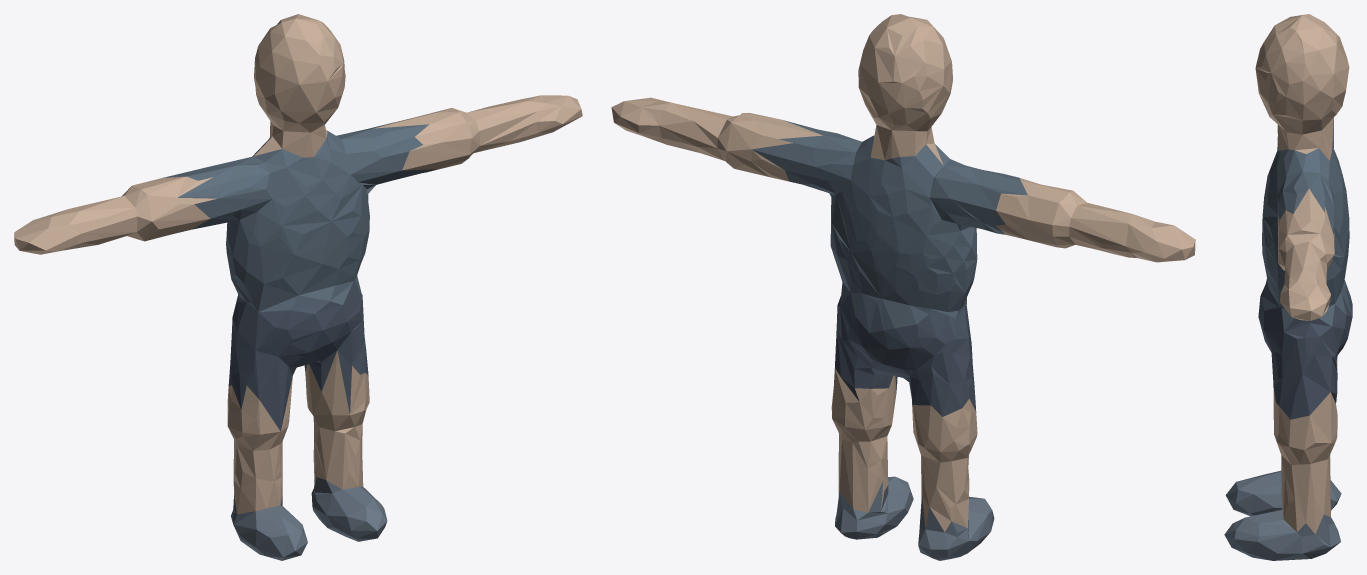
The model's file is atlas-t-pose.glb.
3 views of the same model, side by side, from view 1: azimuth 30°, elevation 25°; view 2: azimuth 150°, elevation 25°; view 3: azimuth 270°, elevation 25° (orthographic). The views are drawn at different scales.
Parts seen in each view (by area): view 1: world; view 2: world; view 3: world.
Part boxes in pixels (<box>): world: <box>14,14,582,560</box>; world: <box>611,14,1195,560</box>; world: <box>1224,14,1352,560</box>.
Bounding box in the file's own units: 2.55 × 2.24 × 0.4986.
